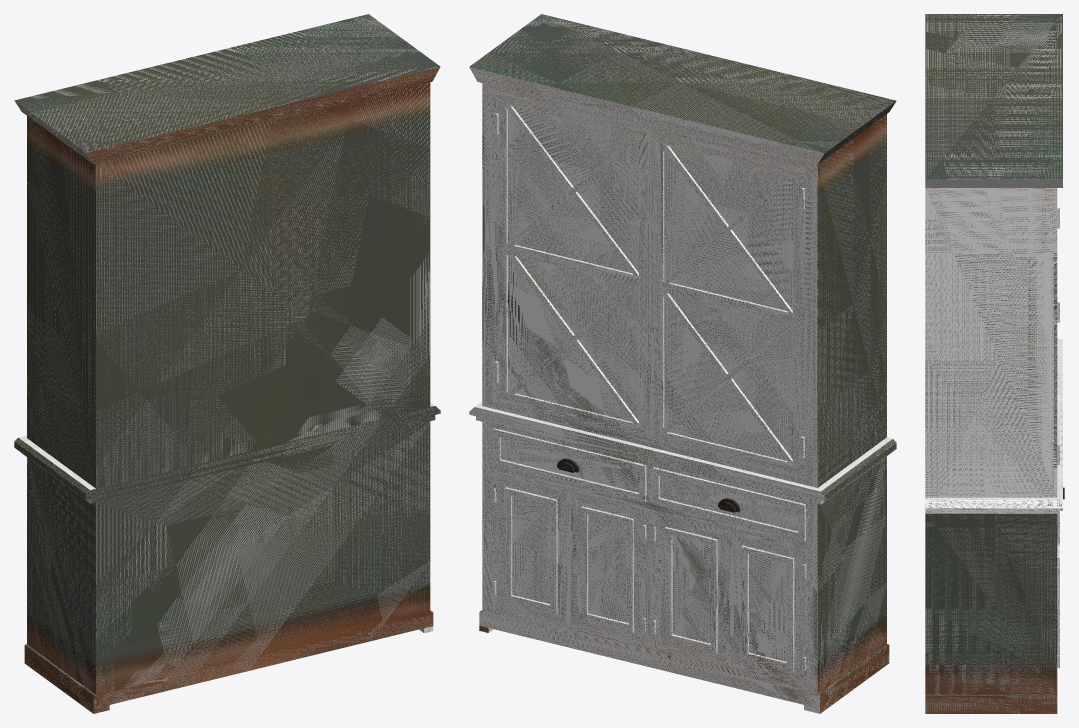
The picture shows the model from 3 angles, left to right: view 1: azimuth 30°, elevation 25°; view 2: azimuth 150°, elevation 25°; view 3: azimuth 270°, elevation 25°; orthographic projection. The views are drawn at different scales.
Parts seen in each view (by area): view 1: mesh2_mesh2-geometry; view 2: mesh2_mesh2-geometry; view 3: mesh2_mesh2-geometry.
Boxes of the visible parts, left/top/right/bottom form: mesh2_mesh2-geometry: left=14, top=14, right=440, bottom=713; mesh2_mesh2-geometry: left=469, top=14, right=896, bottom=713; mesh2_mesh2-geometry: left=925, top=14, right=1062, bottom=713.
Bounding box in the file's own units: 0.54 × 0.8193 × 0.1926.
